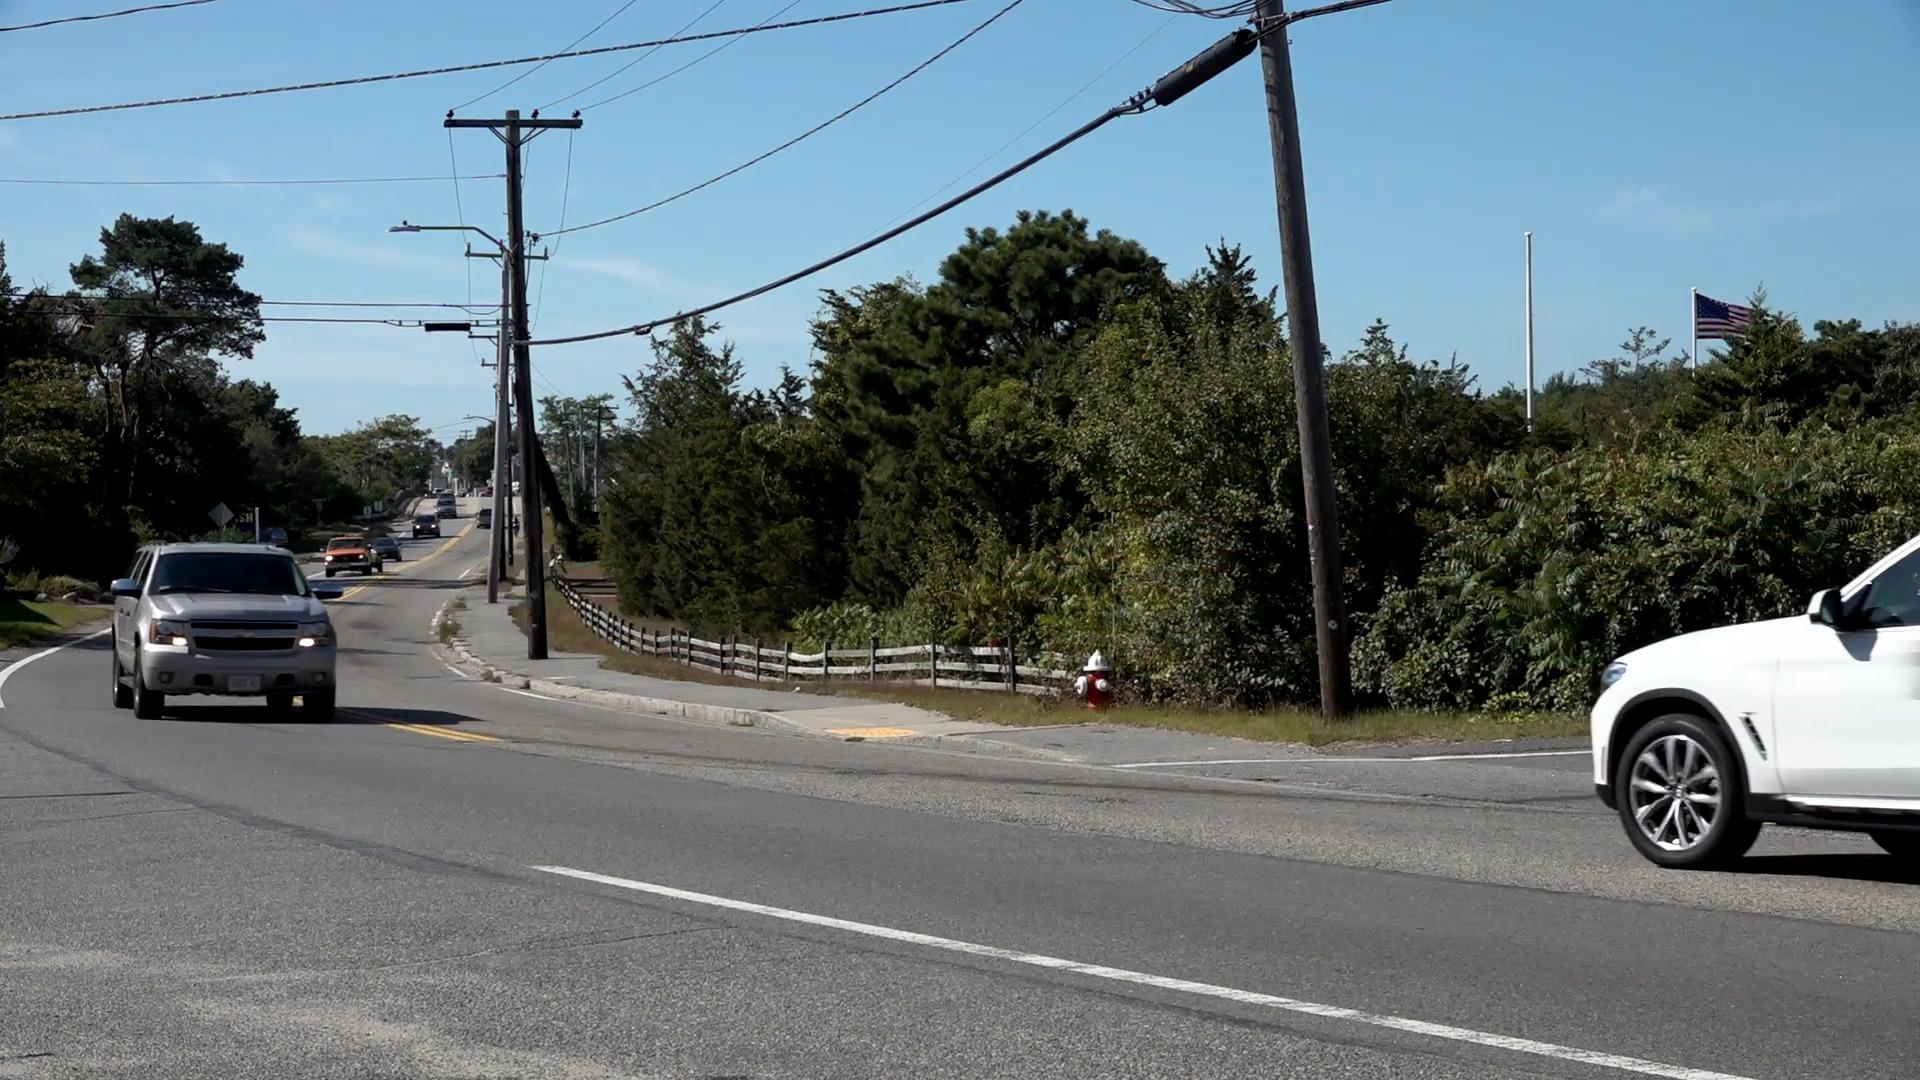suv: (1590, 526, 1920, 894), (109, 538, 338, 719)
